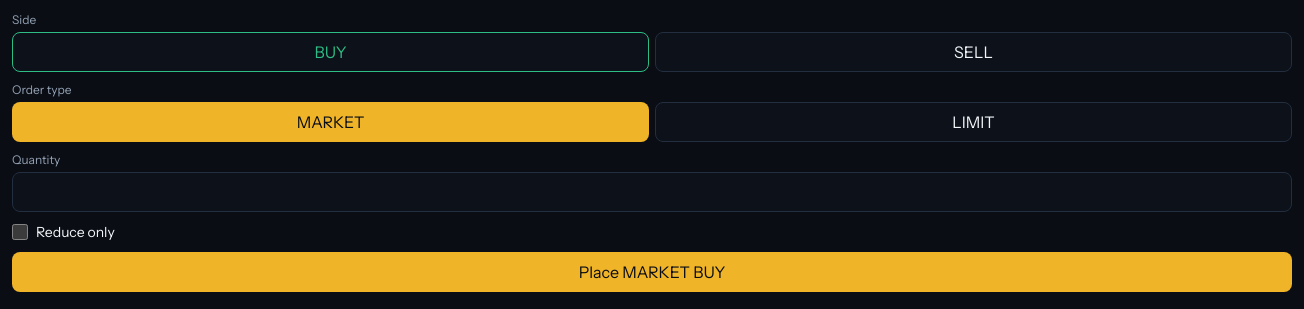
Scenario: OrderForm › disables controls while a place request is pending
This screenshot has width=1304, height=309.
In the field labelled "Quantity": (652, 192) [12, 172, 1292, 212], type "0.001"
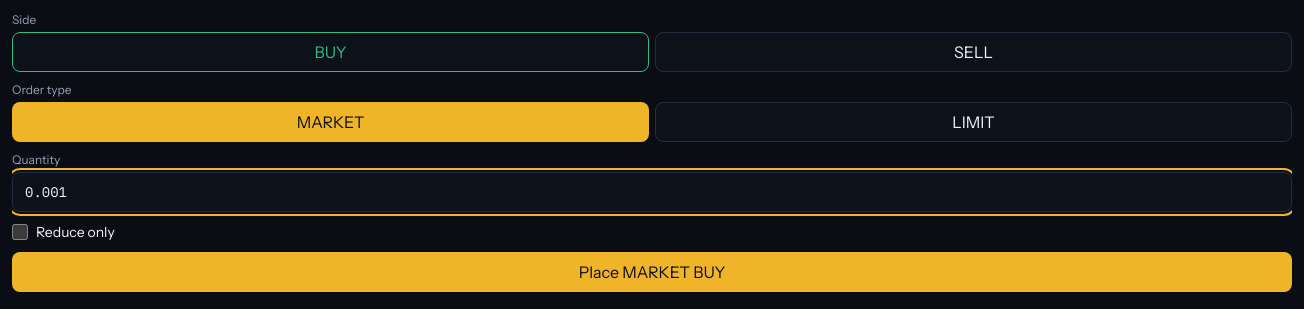
Click the button "Place MARKET BUY": (652, 272) [12, 252, 1292, 292]
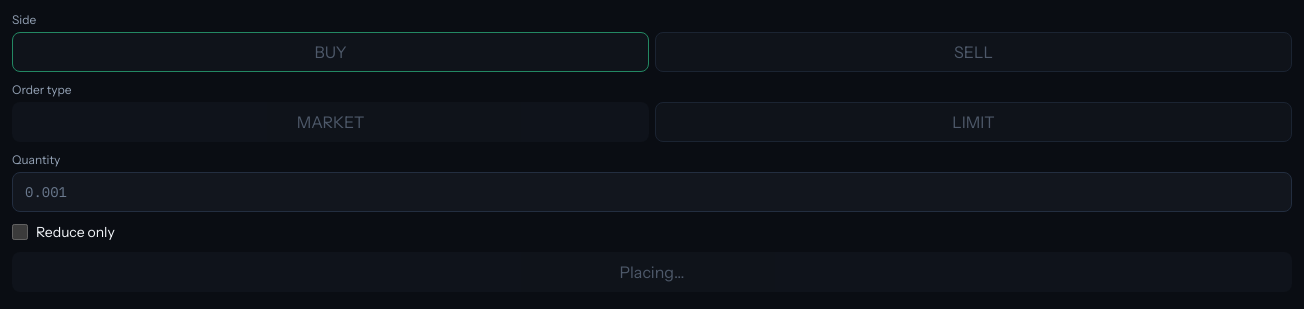
expect the button "Placing…" is disabled: met, box [12, 252, 1292, 292]
expect the field labelled "Quantity" is disabled: met, box [12, 172, 1292, 212]
